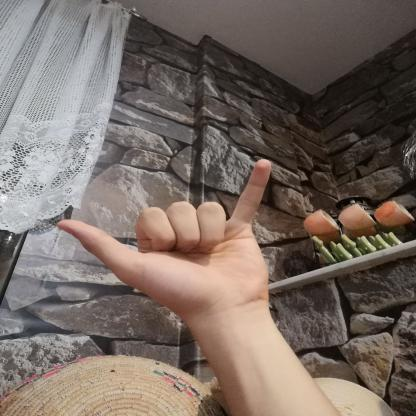YA: (37, 149, 298, 331)
